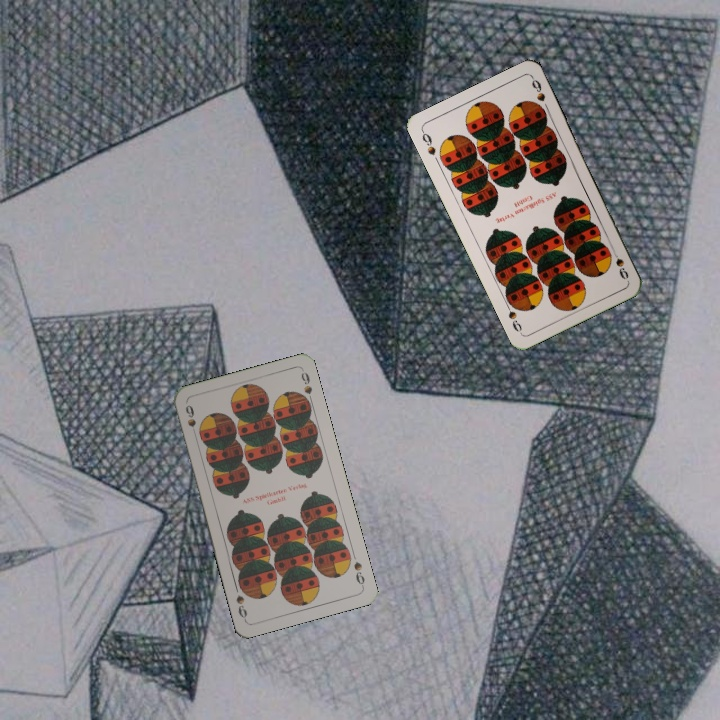S9: (607, 244, 631, 282), (181, 401, 200, 440), (417, 127, 438, 158), (349, 558, 367, 590)
